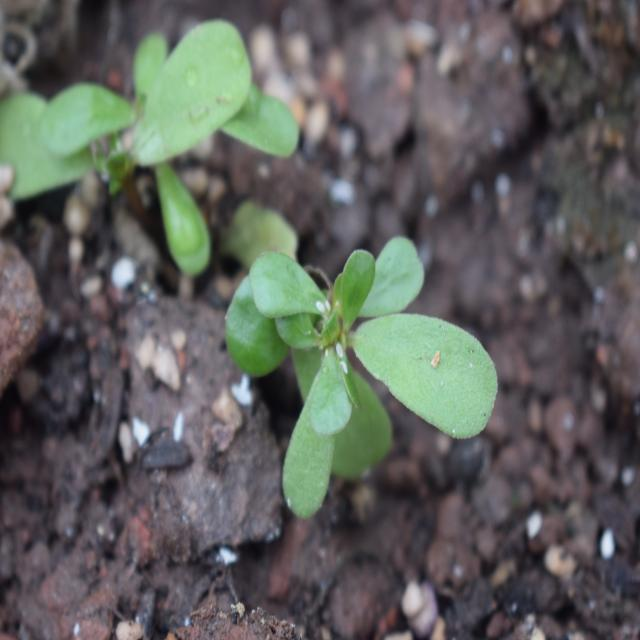purslane: (203, 212, 546, 504)
